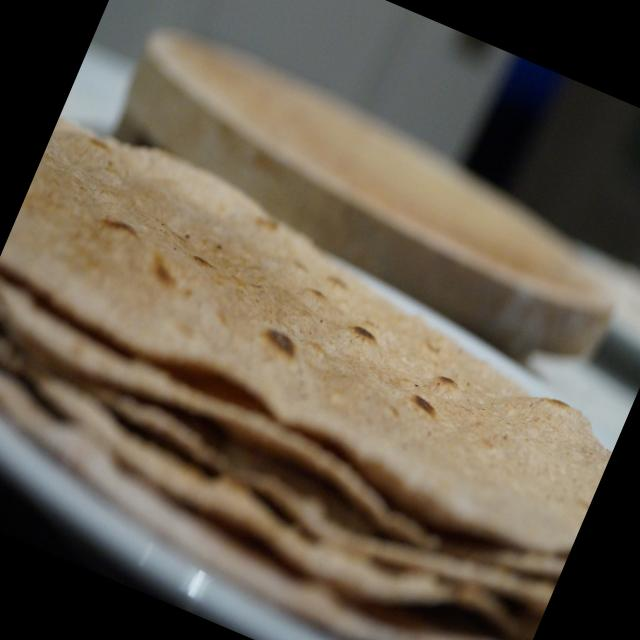roti: (0, 113, 611, 550)
